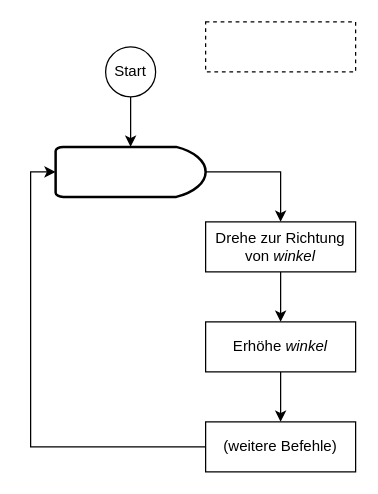
Image size: 378x494. Some labels were removed from this diagram. The box of each missing label's shape, as (x1, y1, x2, y2) in pixels:
Deklariere winkel , initialisiere auf 0: (204, 21, 356, 72)
Wenn Ameise geboren:: (54, 145, 206, 198)
